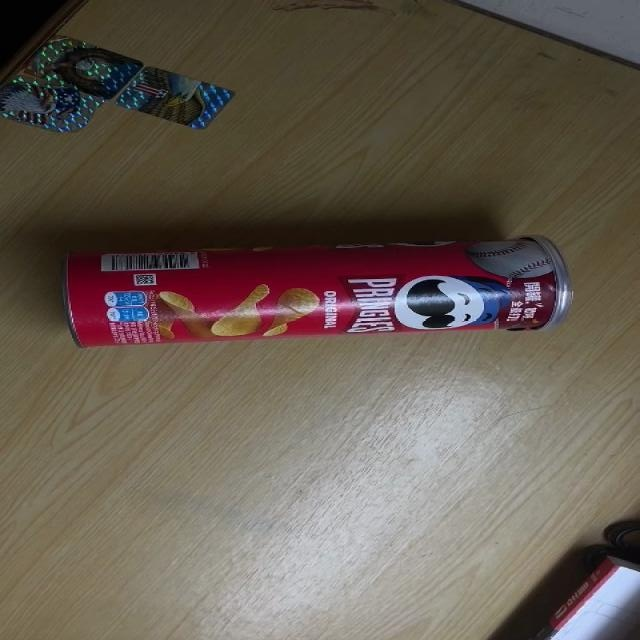Pringles: (67, 234, 570, 348)
